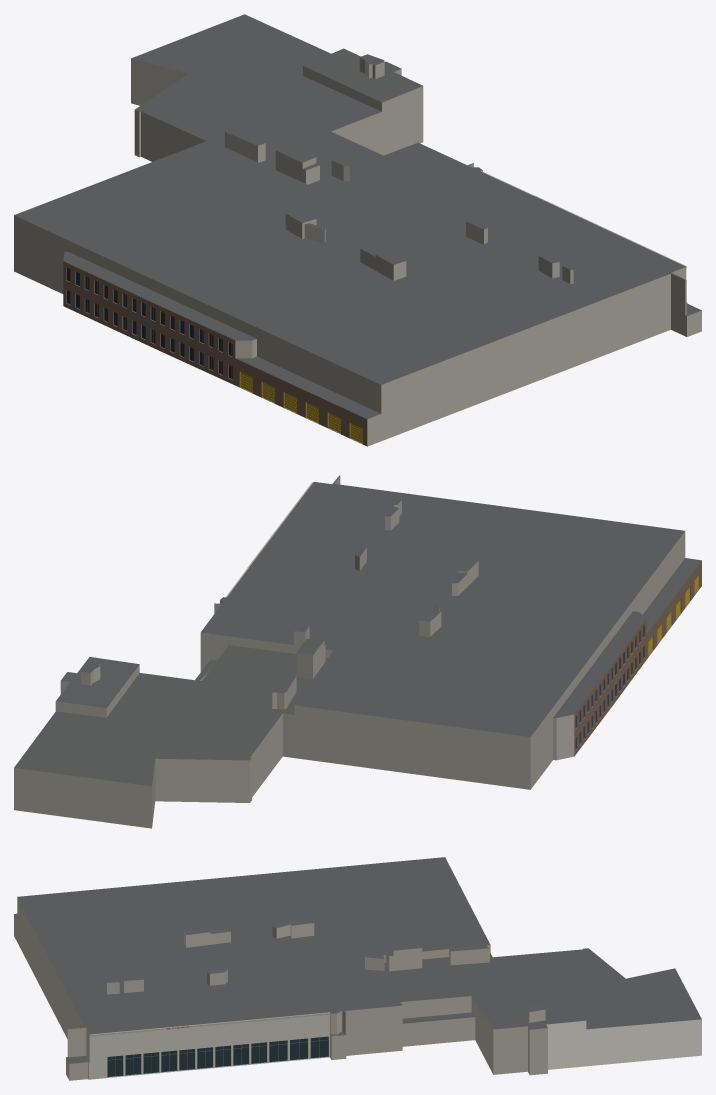
Rendered from recipe-large-cgm-190-202277.glb.
3 views of the same model, one above another, from view 1: azimuth 30°, elevation 25°; view 2: azimuth 150°, elevation 25°; view 3: azimuth 270°, elevation 25° (orthographic). The views are drawn at different scales.
Parts seen in each view (by area): view 1: cgm-190-202277; view 2: cgm-190-202277; view 3: cgm-190-202277.
Part boxes in pixels (x1,y1,x2,y2): cgm-190-202277: (14, 14, 701, 446); cgm-190-202277: (14, 475, 701, 828); cgm-190-202277: (14, 857, 701, 1080).
Bounding box in the file's own units: 96.04 × 14.6 × 156.
